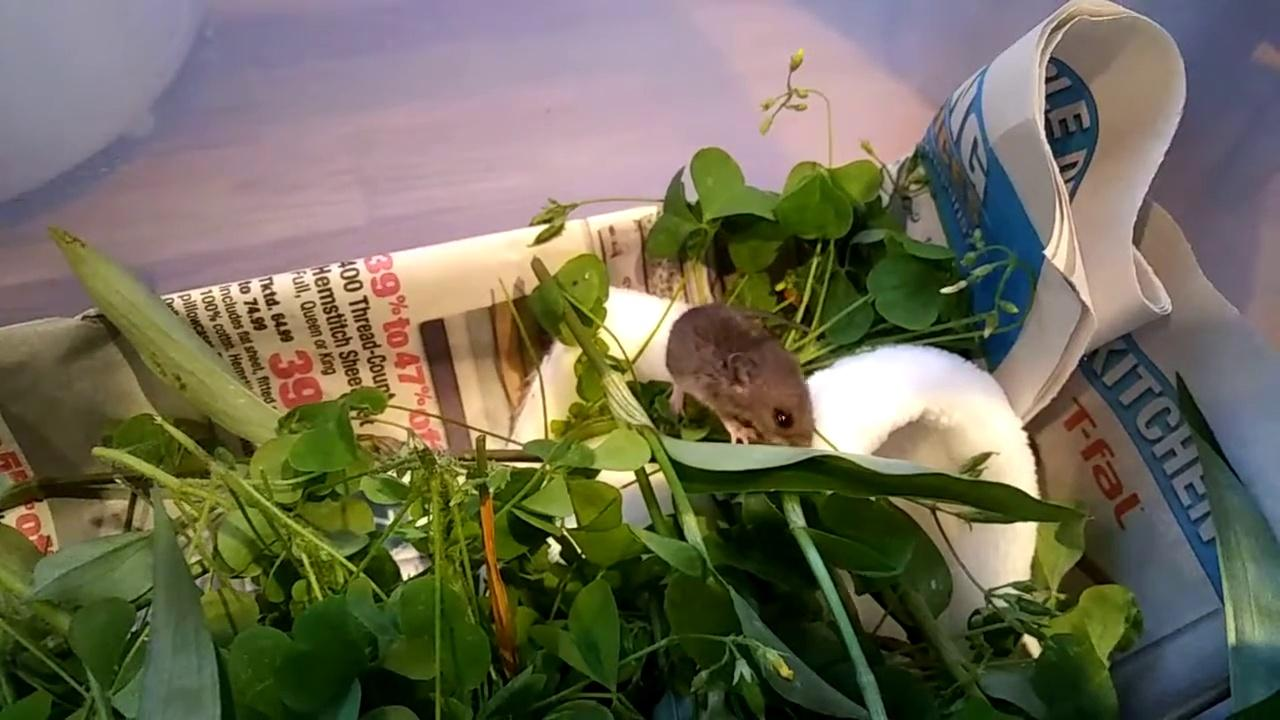rat: (666, 305, 815, 448)
